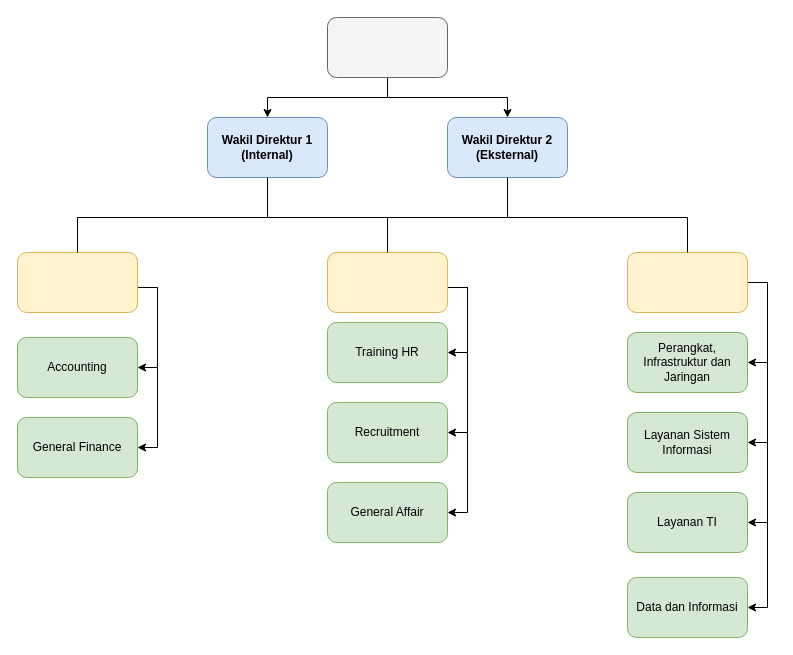
Image size: 793x655. Some labels were removed from this diagram. Here are the shapes that lost their labels. From the top down, the centre of each, then its label:
At (387,47): "Direktur Utama MagXer".
At (77,282): "Finance".
At (387,282): "Human Resource Management".
At (687,282): "Operasional TI".
